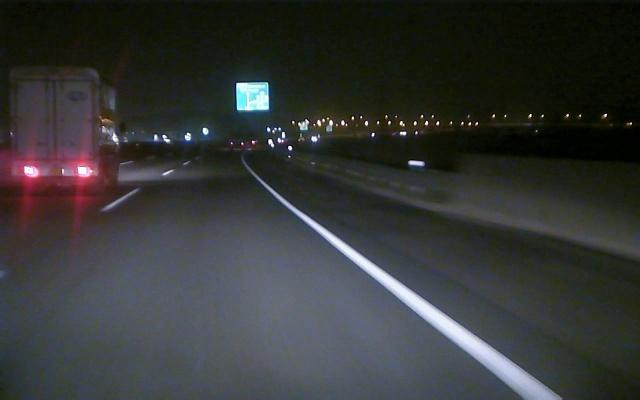lane: (262, 182, 560, 396), (100, 192, 134, 212)
